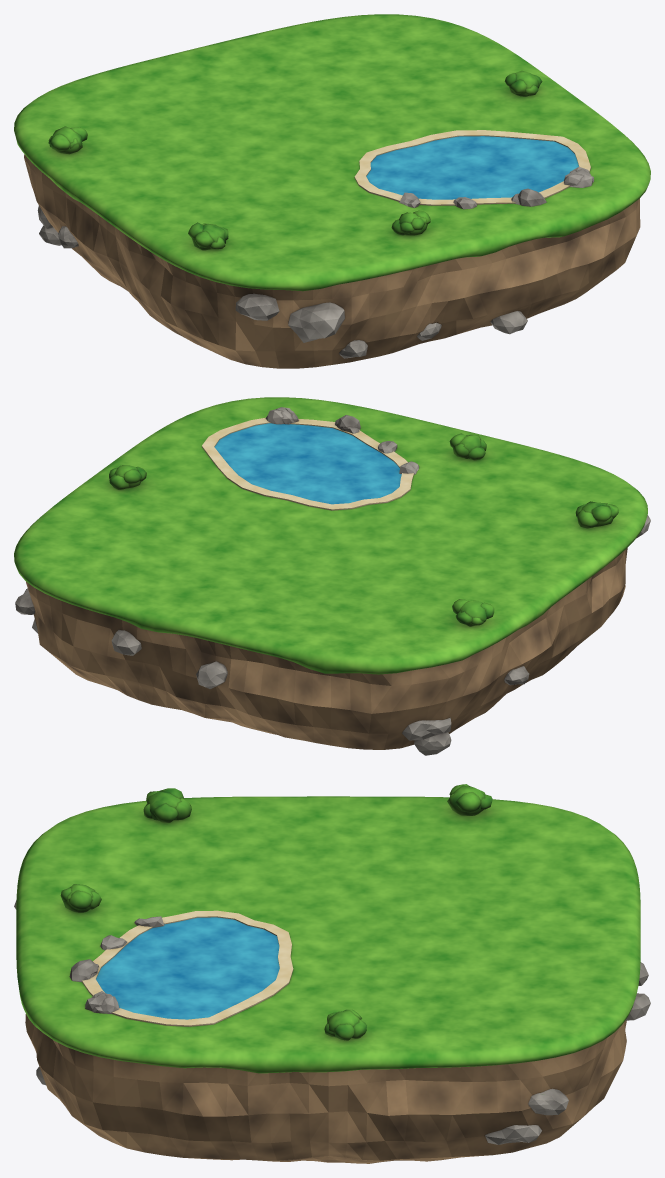
File: RioDeJaneiro_Island.fbx
3 renders of one model, top to bottom at view 1: azimuth 30°, elevation 25°; view 2: azimuth 150°, elevation 25°; view 3: azimuth 270°, elevation 25°, orthographic. The views are drawn at different scales.
Parts seen in each view (by area): view 1: Island_Top, Island_Body; view 2: Island_Top, Island_Body; view 3: Island_Top, Island_Body.
Part boxes in pixels (<box>): Island_Top: <box>14,14,650,291</box>; Island_Body: <box>24,154,640,368</box>; Island_Top: <box>14,397,647,674</box>; Island_Body: <box>15,515,650,755</box>; Island_Top: <box>16,784,640,1073</box>; Island_Body: <box>14,900,650,1163</box>.
Bounding box in the file's own units: 16.07 × 5.86 × 16.39.
Materials: 1 (1 with a texture image).
